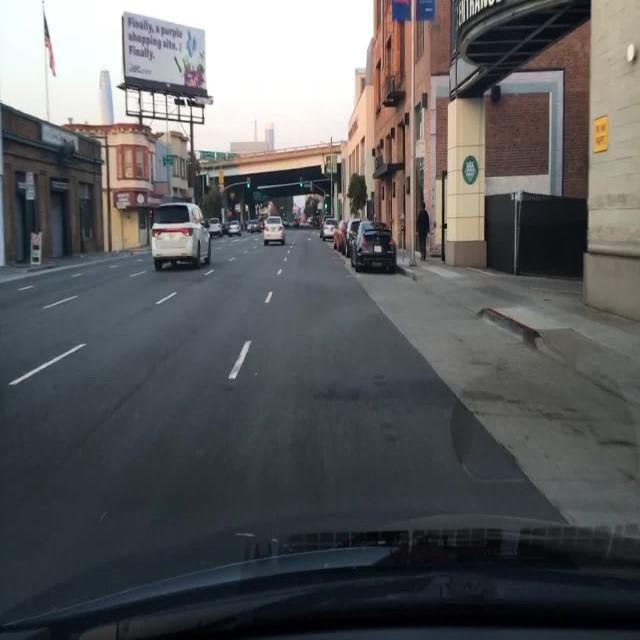normal: (310, 180, 403, 289), (141, 179, 223, 281), (261, 193, 289, 257)
